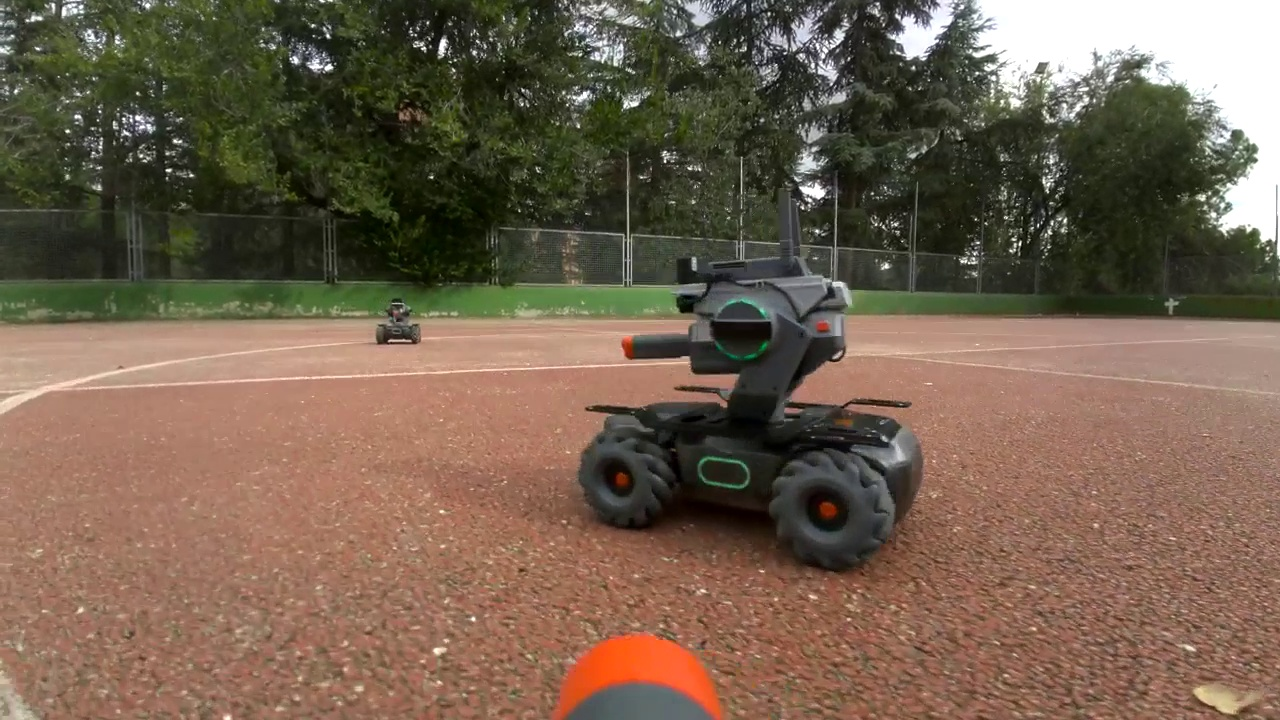robot: (578, 257, 923, 569), (378, 295, 420, 344)
